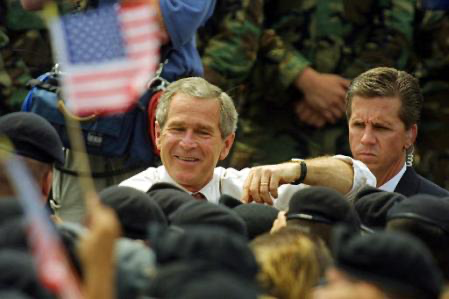Face: (160, 98, 221, 181), (347, 98, 411, 176)
